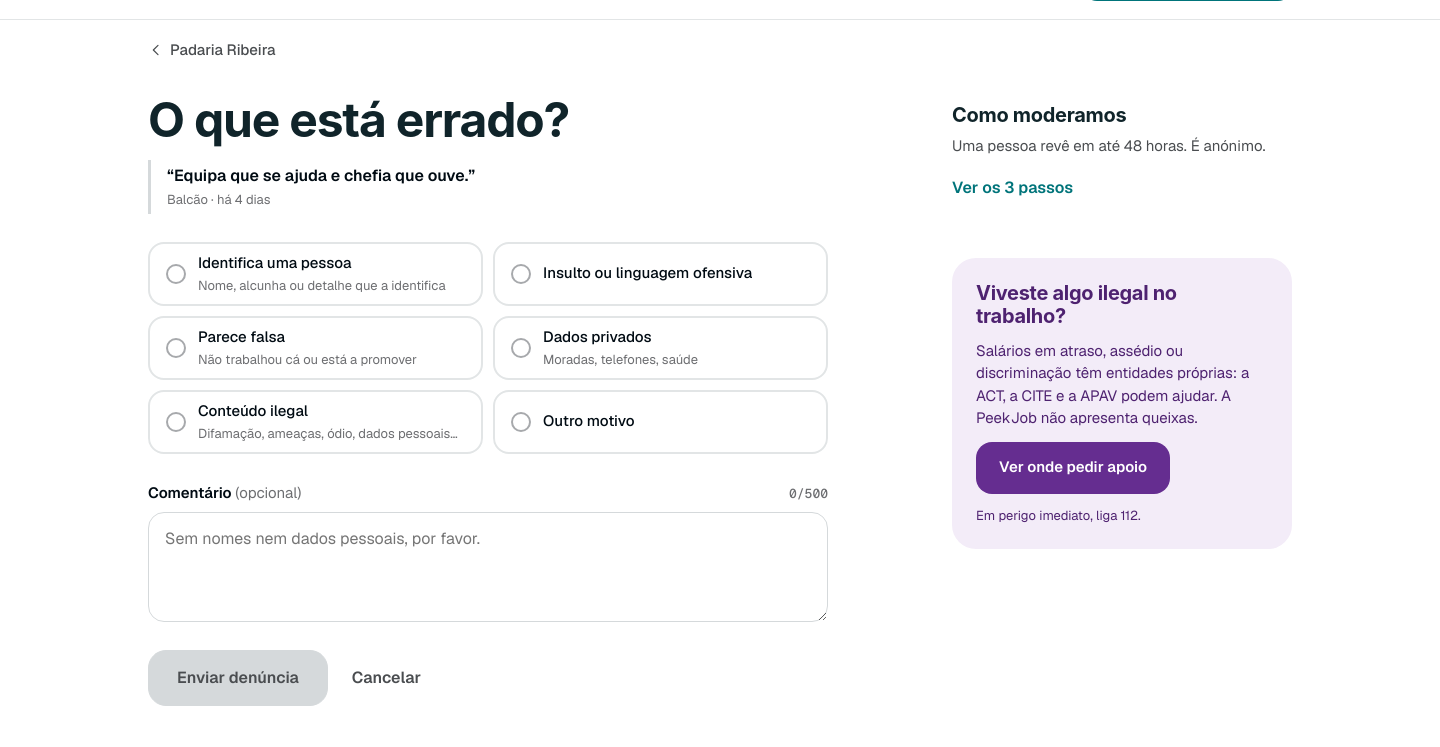
Scenario: Denunciar, modo API (desktop) › com conta: sem campos de contacto; denúncia repetida e email inválido explicam o erro
Click the radio button labelled "Dados privados Moradas, telefones, saúde" at (660, 348), box [493,316,828,380]
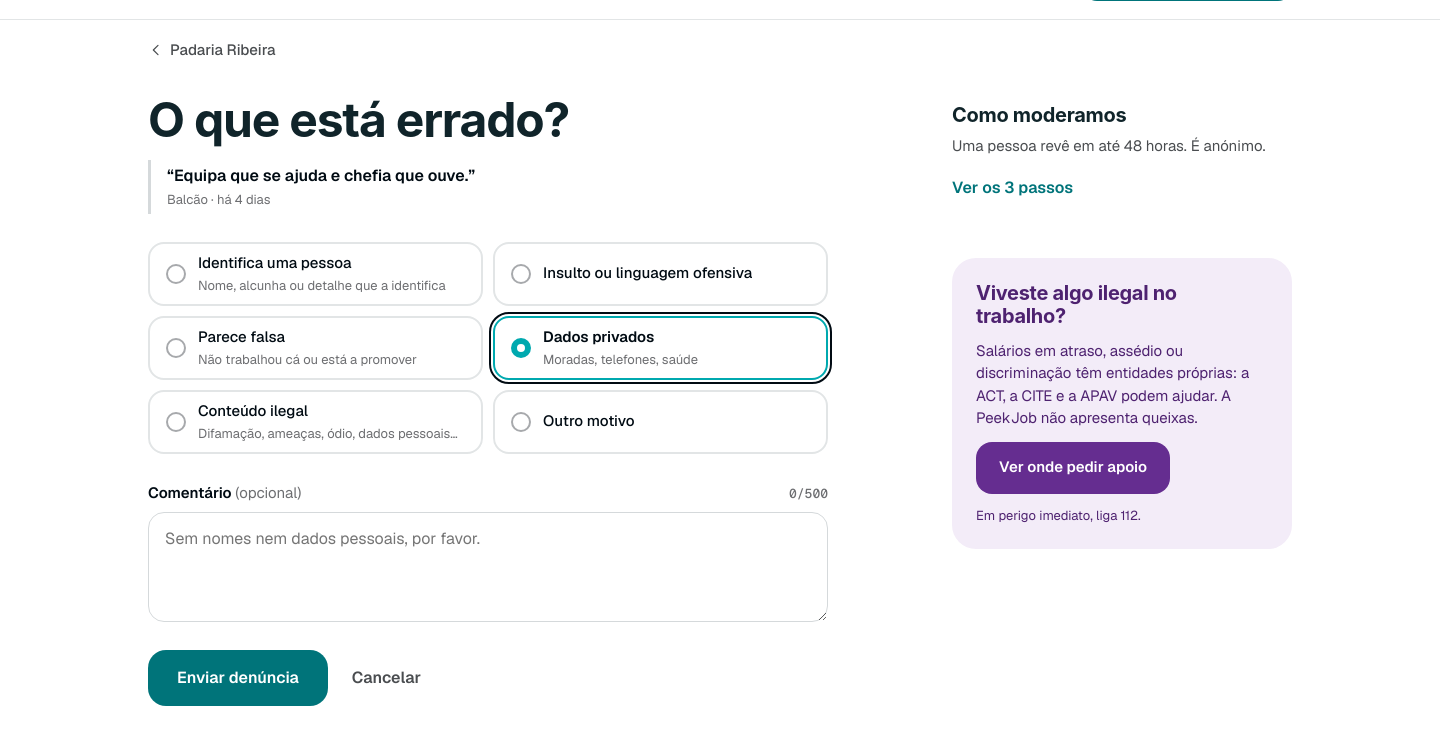
Check: the field with placeholder "Email" is not shown
Click the button "Enviar denúncia" at (238, 678), box [148,650,328,706]
(page scrolled)
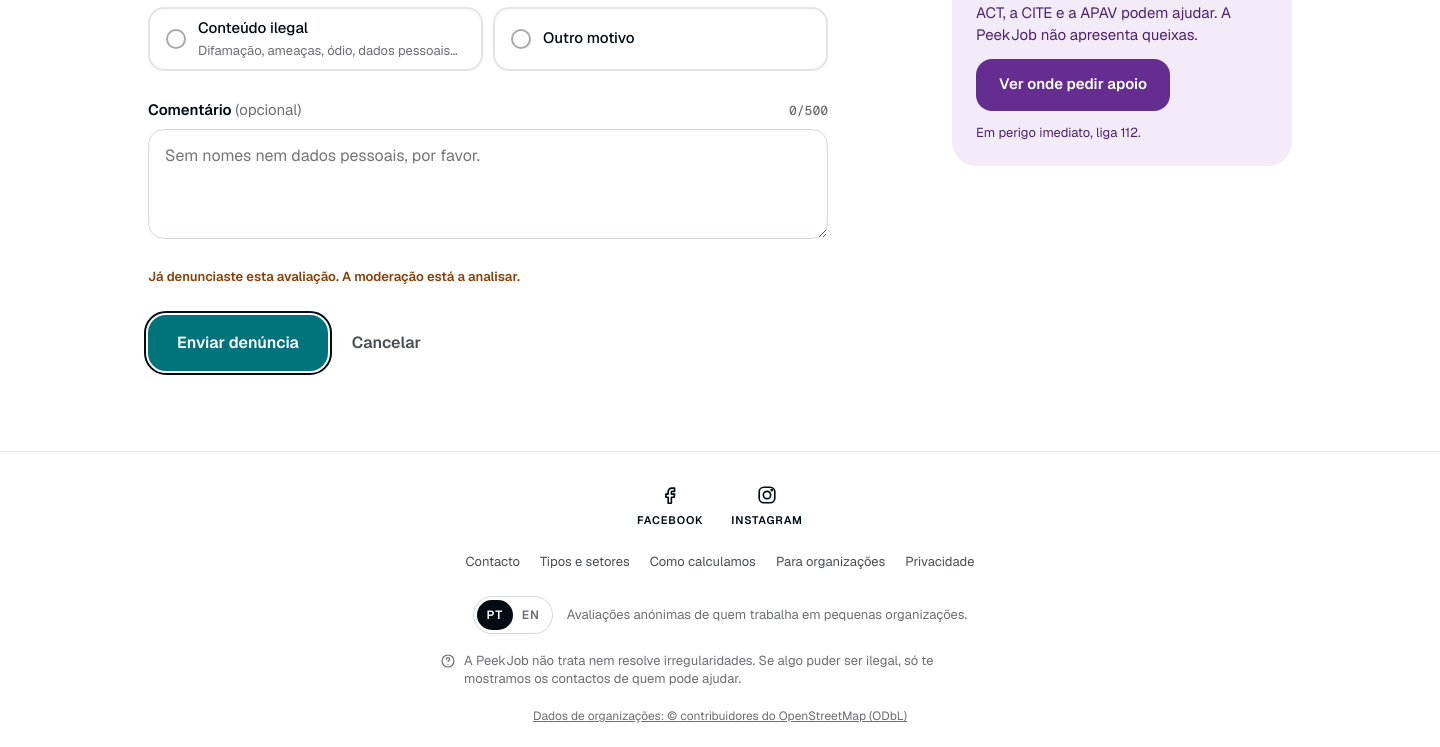
Check: the message reads "Já denunciaste esta avaliação. A moderação está a analisar.", box [148,268,520,285]
Click the button "Enviar denúncia" at (238, 342), box [148,314,328,370]
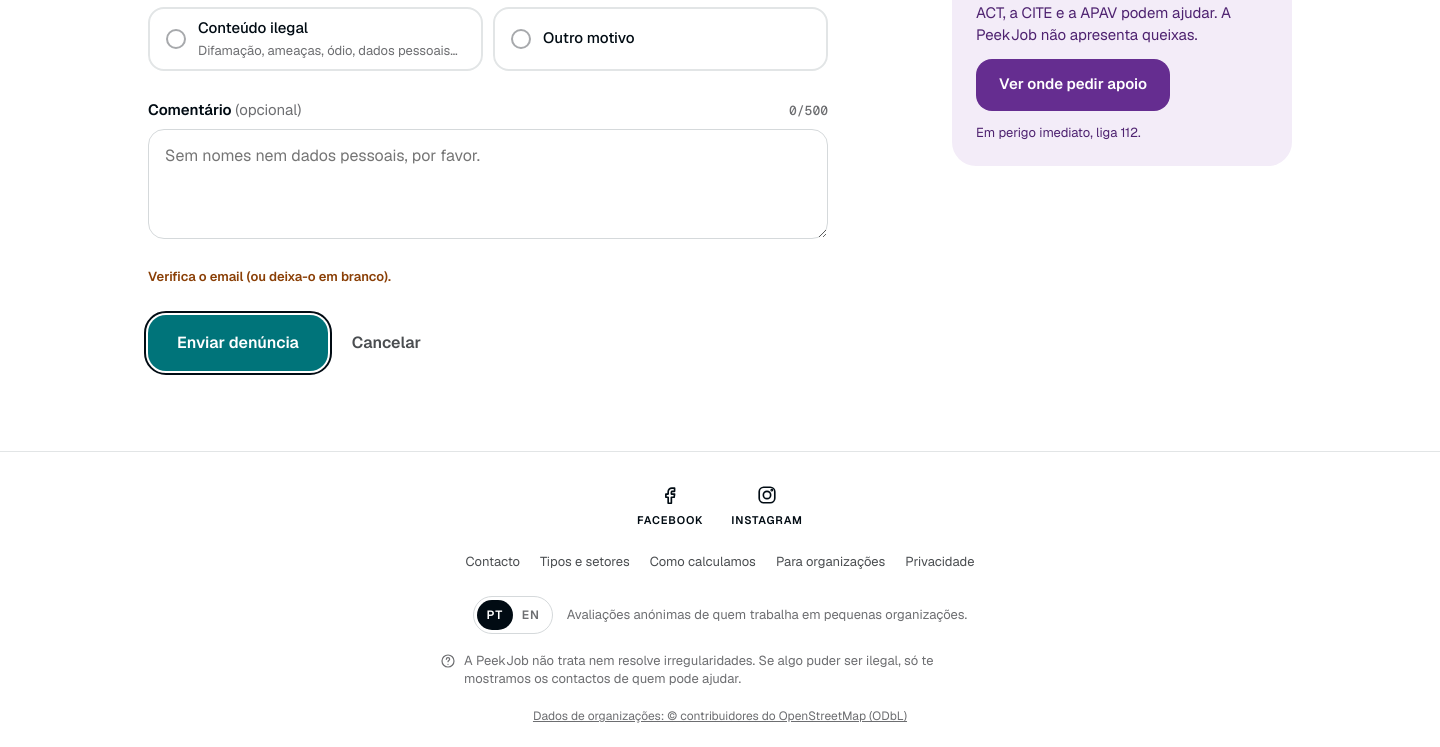
Check: the text "Verifica o email (ou deixa-o em branco)." is shown, box [148,268,391,285]
Click the button "Enviar denúncia" at (238, 342), box [148,314,328,370]
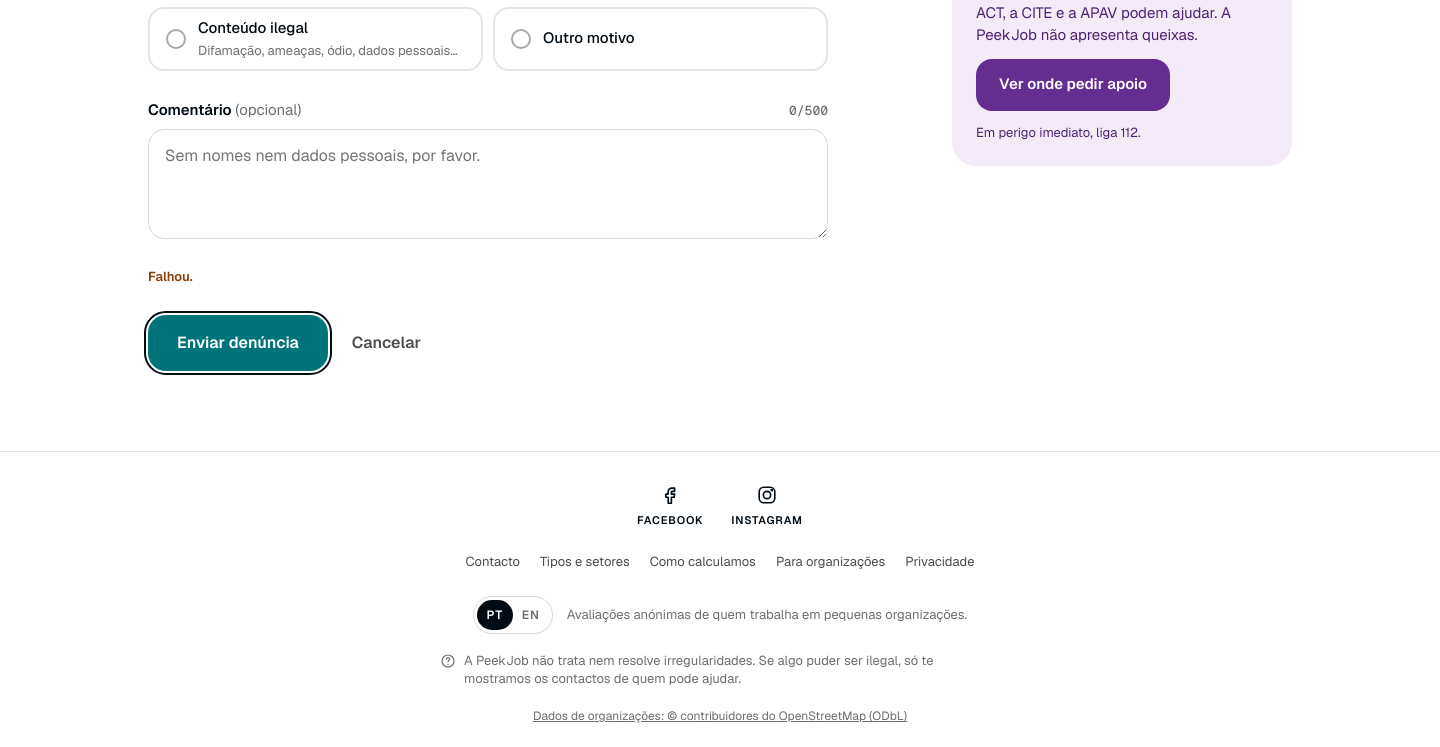
Check: the text "Falhou." is shown, box [148,268,193,285]
